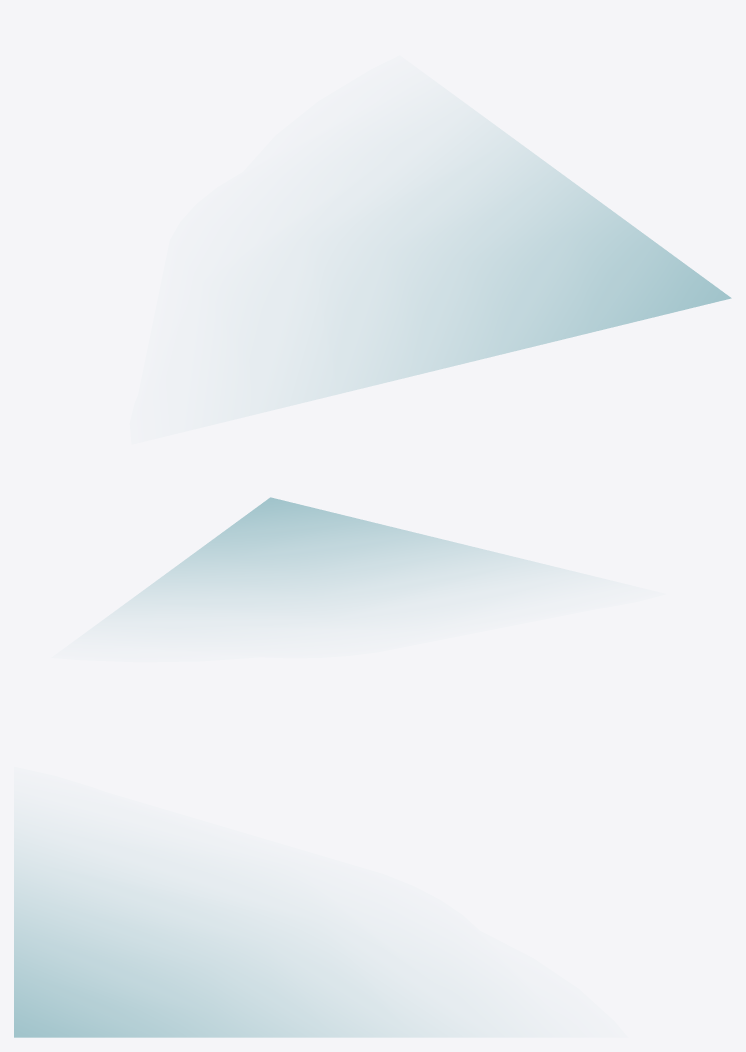
3 renders of one model, top to bottom at view 1: azimuth 30°, elevation 25°; view 2: azimuth 150°, elevation 25°; view 3: azimuth 270°, elevation 25°, orthographic. The views are drawn at different scales.
Parts seen in each view (by area): view 1: city; view 2: city; view 3: city.
Part boxes in pixels (x1=…): city: x1=282, y1=118, x2=731, y2=407; city: x1=108, y1=497, x2=564, y2=616; city: x1=14, y1=835, x2=469, y2=1037.
Size of the model in its own units: 301 by 0 by 290.
